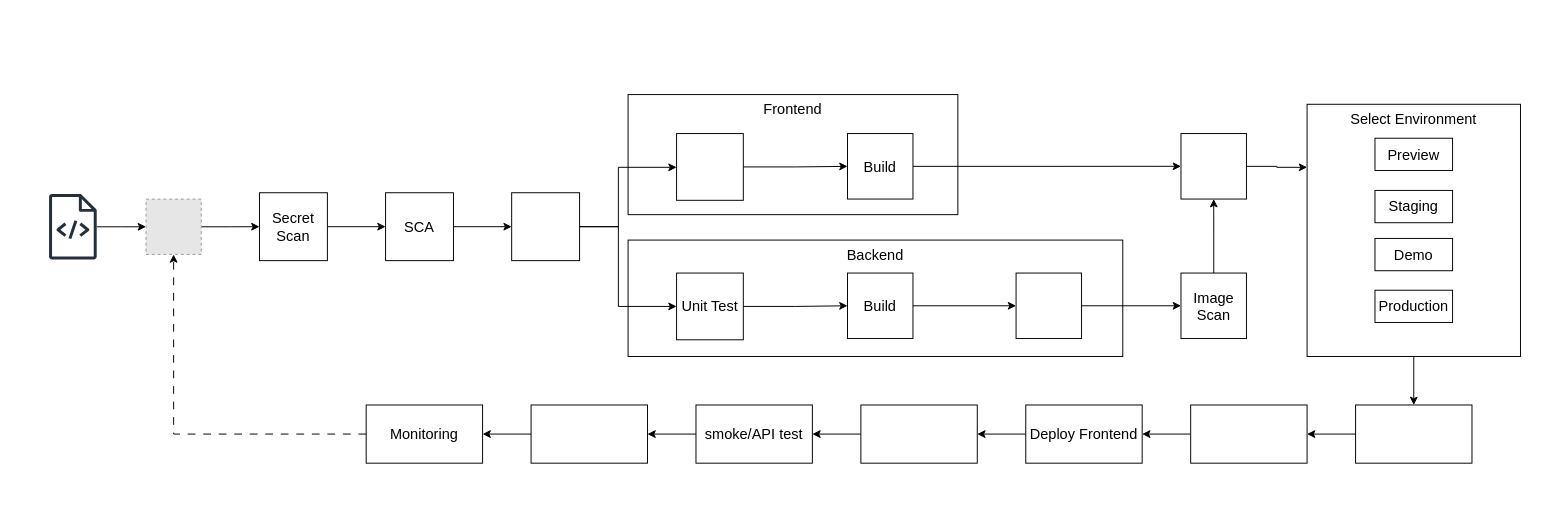
Image size: 1556x518. Some labels were removed from this diagram. Grey dashed boxes stand in for pictures. Each missing label, with the centre of its shape:
Backend Health Check: the point at 1248,433
DAST: the point at 588,433
Deploy Backend: the point at 1413,433
Docker Build: the point at 1048,305
Frontend Health Check: the point at 918,433
Lint / Check: the point at 709,166
Ready for CD: the point at 1213,166
SAST: the point at 545,226
